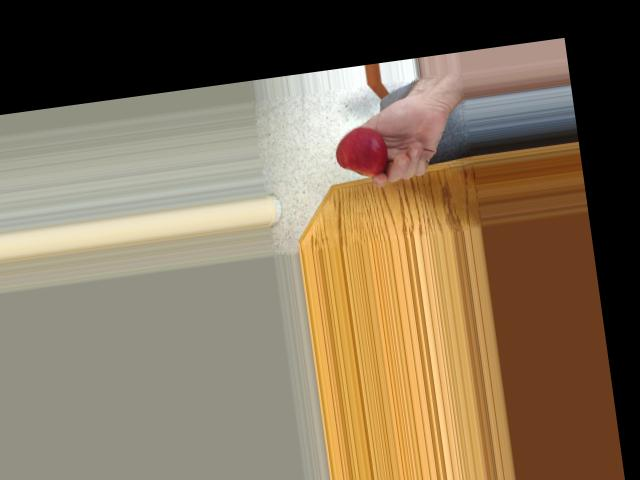apple: (330, 122, 394, 182)
